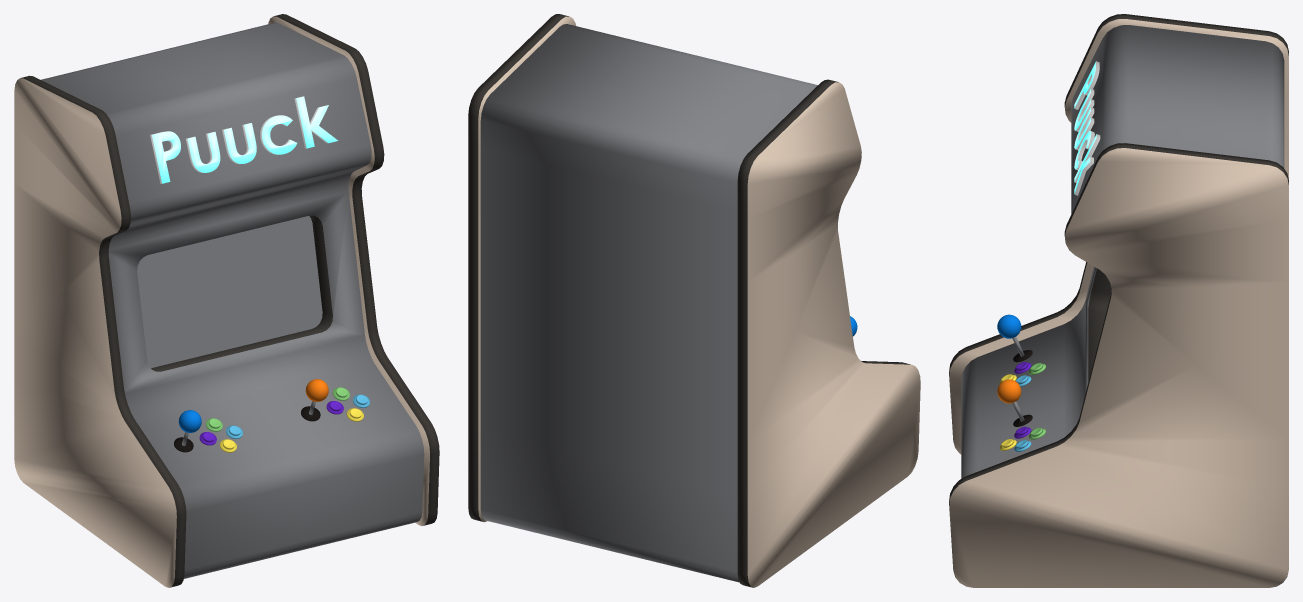
The model's file is Arcade.gltf.
3 renders of one model, left to right at view 1: azimuth 30°, elevation 25°; view 2: azimuth 150°, elevation 25°; view 3: azimuth 270°, elevation 25°, orthographic. The views are drawn at different scales.
Parts seen in each view (by area): view 1: Arcade; view 2: Arcade; view 3: Arcade.
Part boxes in pixels (x1=…): Arcade: x1=14, y1=14, x2=439, y2=587; Arcade: x1=468, y1=14, x2=920, y2=587; Arcade: x1=949, y1=14, x2=1288, y2=587.
Bounding box in the file's own units: 0.8626 × 1.32 × 0.9242.
5 materials, 3 textured.
